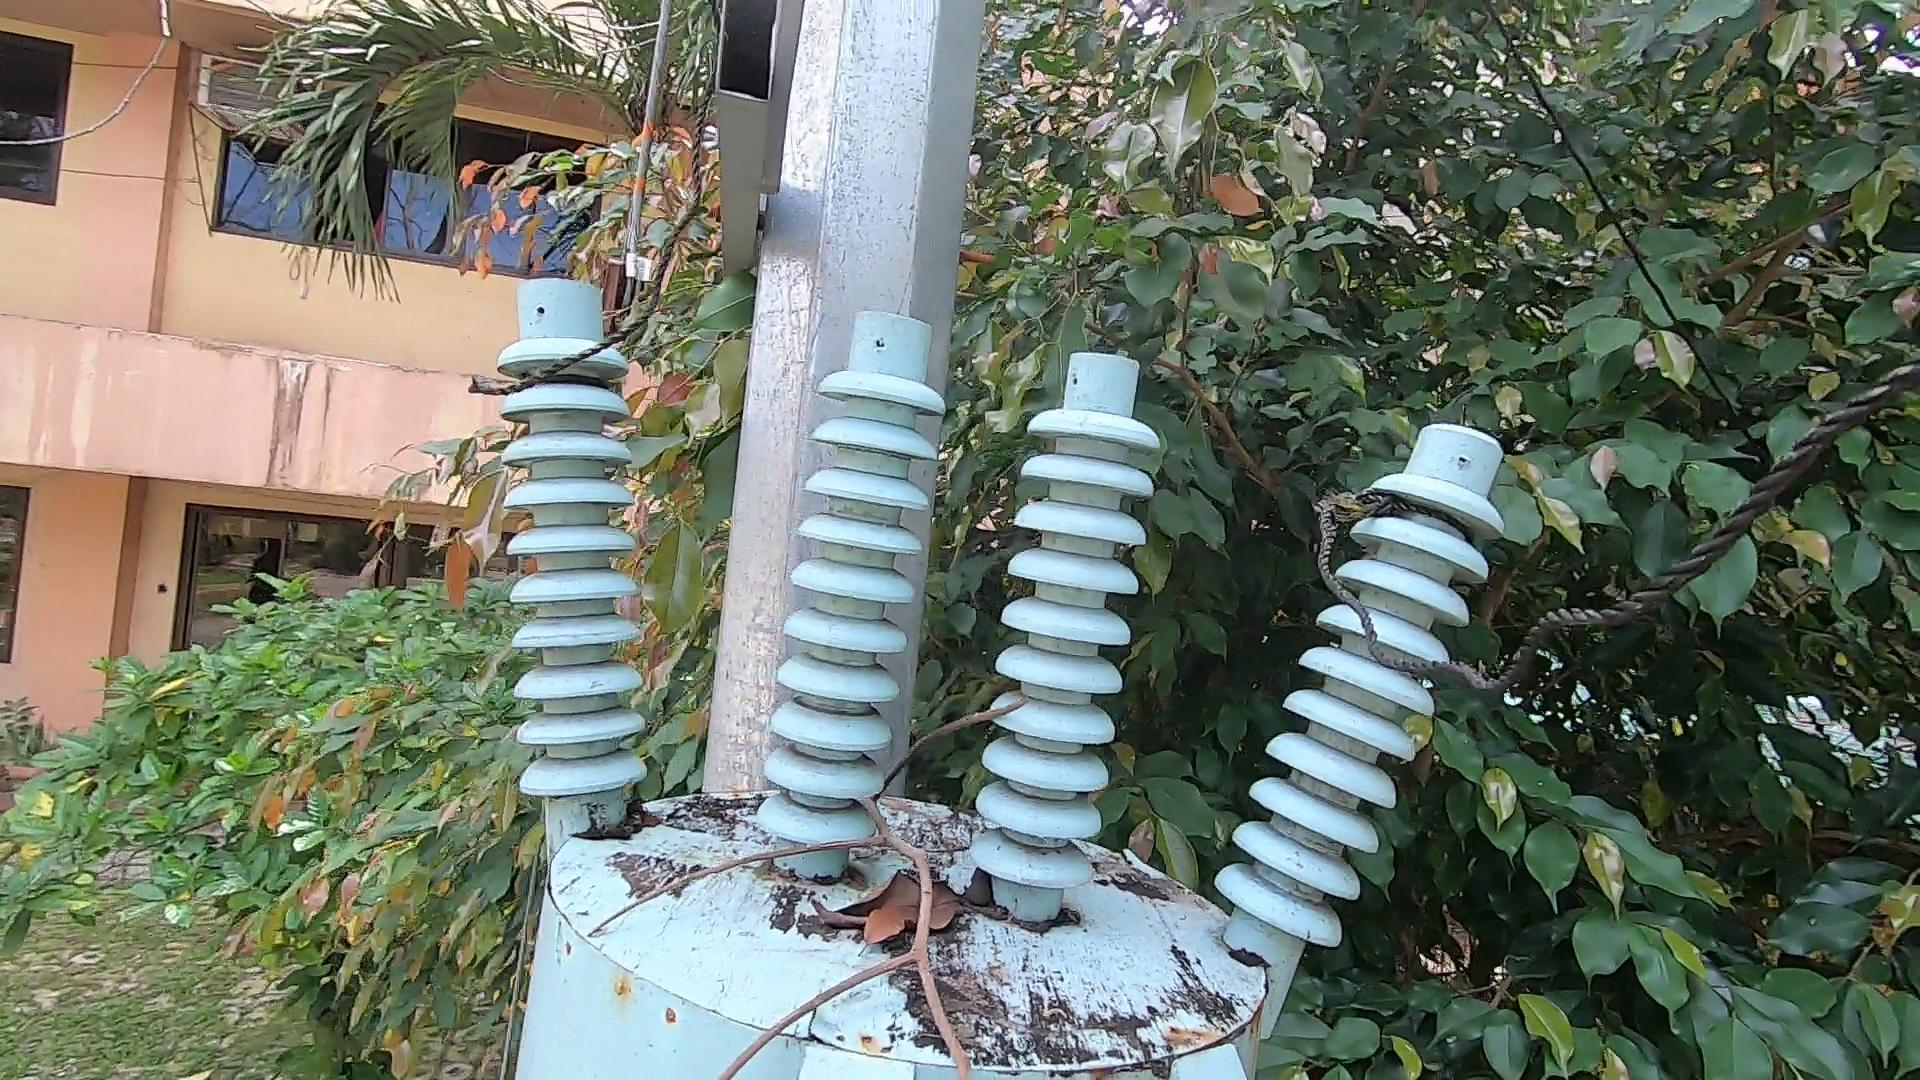leaf: (825, 837, 977, 948), (567, 789, 669, 844)
tree branch: (624, 691, 1067, 1080)
